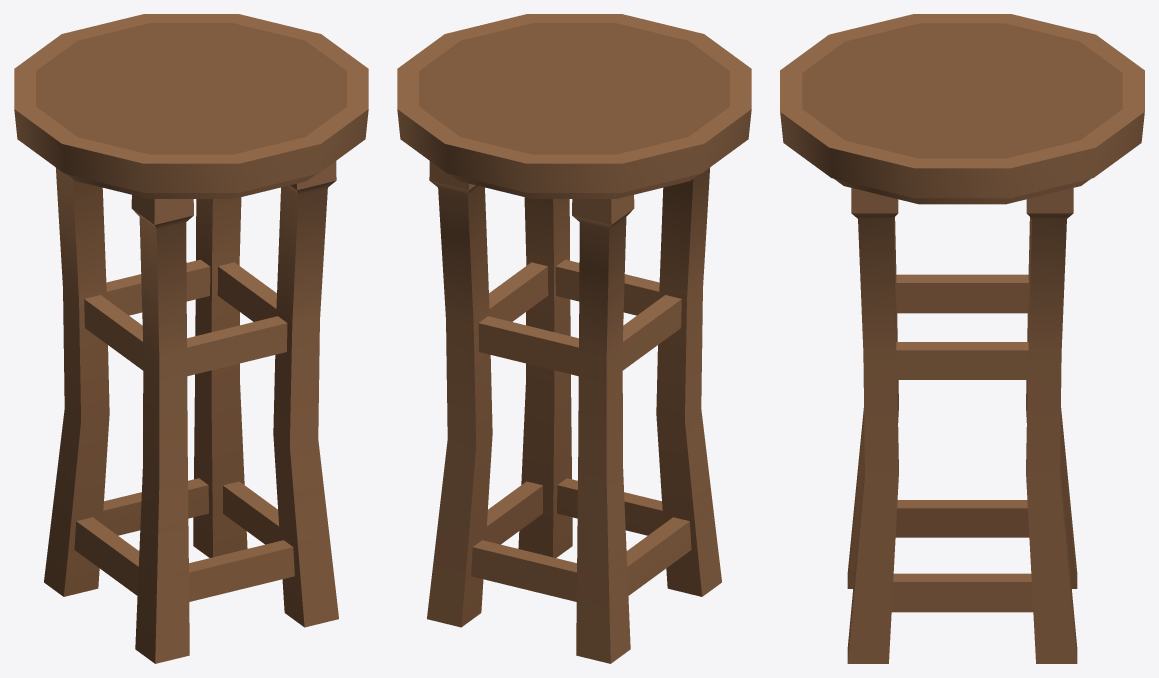
The model's file is SideTableRound.fbx.
3 renders of one model, left to right at view 1: azimuth 30°, elevation 25°; view 2: azimuth 150°, elevation 25°; view 3: azimuth 270°, elevation 25°, orthographic. The views are drawn at different scales.
Visible parts, largest first — view 1: SideTableRound; view 2: SideTableRound; view 3: SideTableRound.
Boxes of the visible parts, box(x1,y1,x2,y2) form: SideTableRound: box(14, 14, 368, 663); SideTableRound: box(397, 14, 751, 663); SideTableRound: box(780, 14, 1144, 663).
Size of the model in its own units: 42.84 by 68.24 by 42.84.
